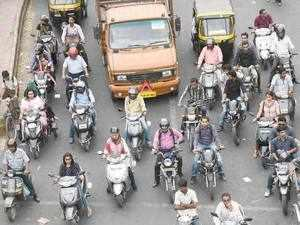helmet: (271, 21, 287, 38), (203, 33, 218, 47), (7, 135, 18, 152), (155, 117, 173, 127), (68, 46, 80, 60), (126, 87, 141, 98), (74, 80, 87, 92), (108, 125, 121, 134), (39, 15, 52, 24)
